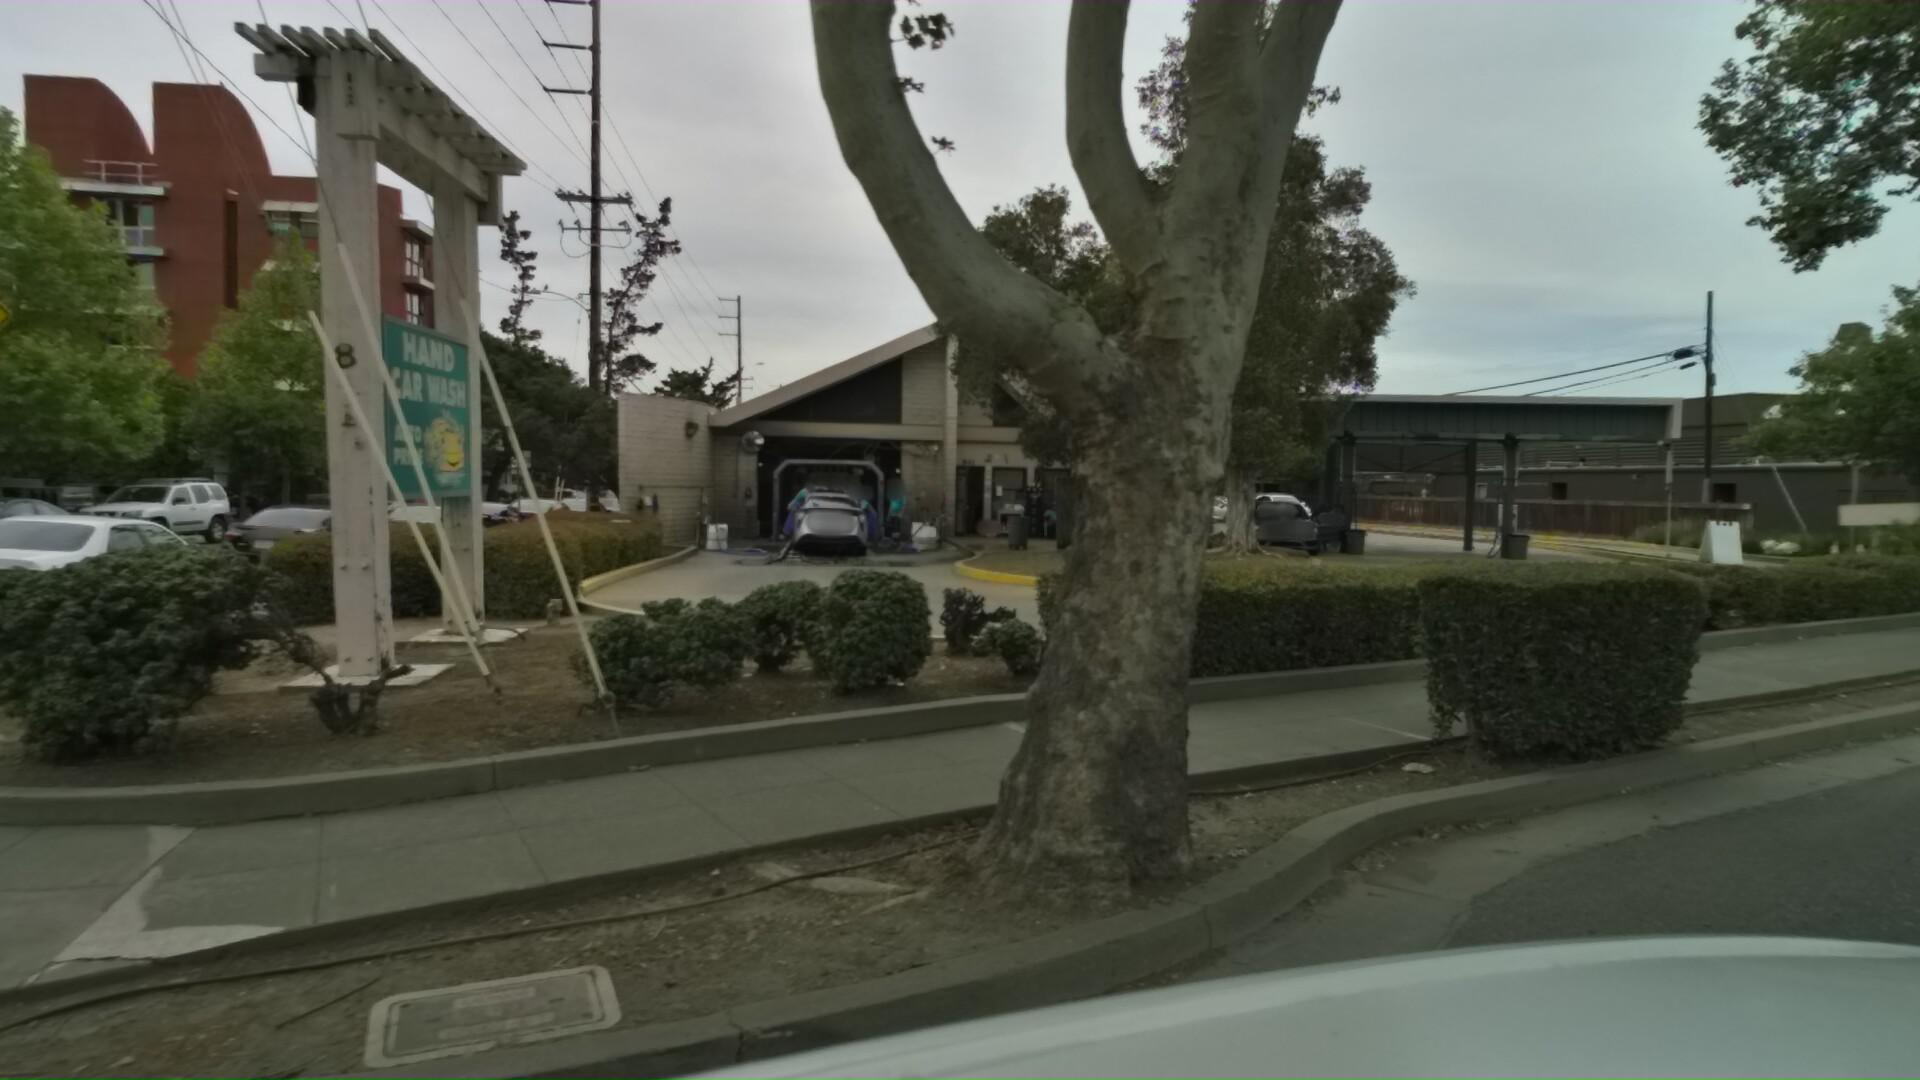car: (0, 497, 291, 647), (243, 493, 442, 593), (91, 473, 258, 550), (384, 491, 522, 566), (0, 491, 125, 568), (808, 483, 899, 556), (1253, 491, 1342, 553), (505, 489, 601, 545), (61, 477, 170, 517), (336, 485, 429, 527), (597, 489, 655, 527)
